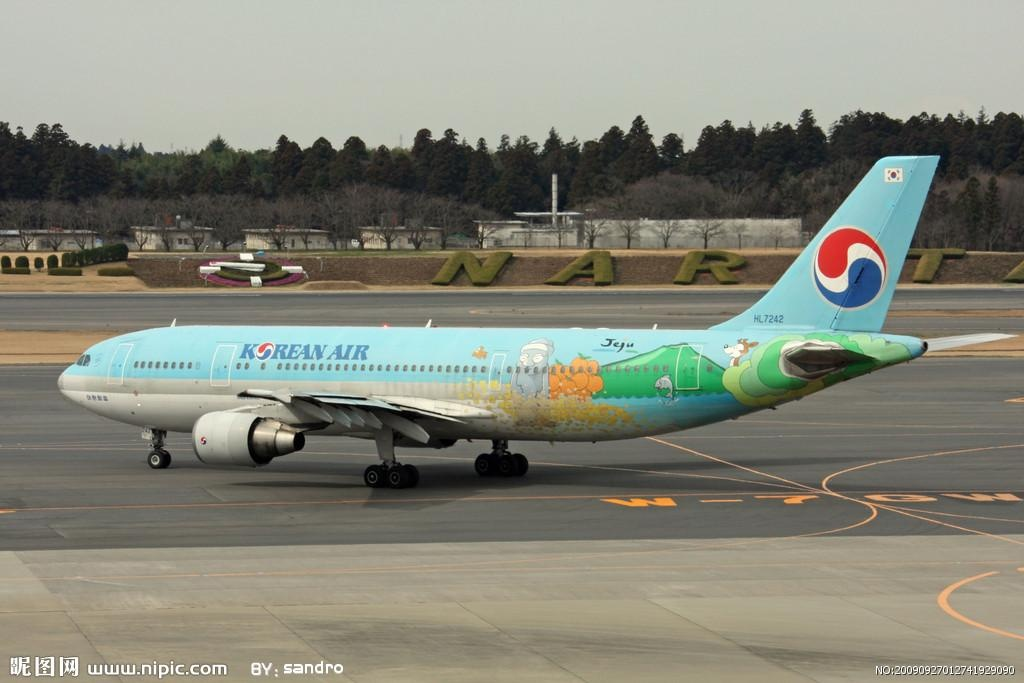airplane: (55, 153, 947, 493)
